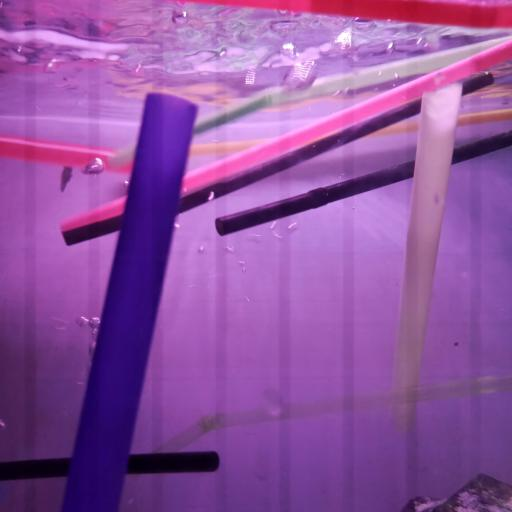plastic_straw: (60, 38, 512, 233), (63, 73, 495, 247), (58, 89, 198, 512), (104, 34, 512, 169), (215, 129, 512, 236), (148, 371, 512, 454), (388, 85, 463, 436), (190, 107, 512, 152), (169, 0, 512, 28), (2, 448, 222, 482), (0, 133, 132, 176)
